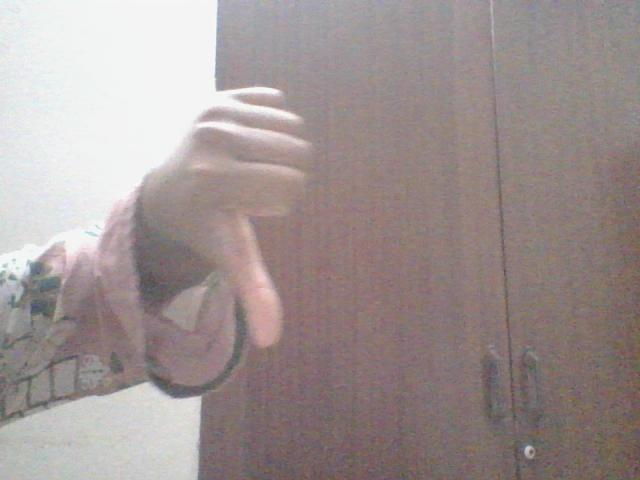thumbs-down: (188, 84, 326, 356)
